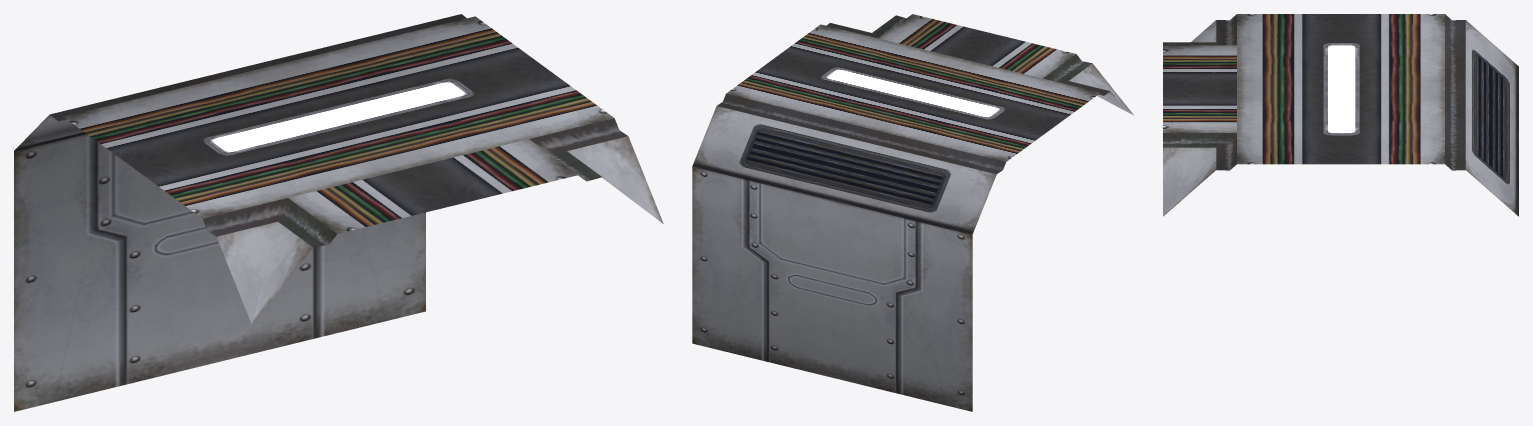
The model's file is MESH_CORREDOR_03_WAY.fbx.
The picture shows the model from 3 angles, left to right: view 1: azimuth 30°, elevation 25°; view 2: azimuth 150°, elevation 25°; view 3: azimuth 270°, elevation 25°; orthographic projection. The views are drawn at different scales.
Parts seen in each view (by area): view 1: MESH_CORREDOR_03_WAY; view 2: MESH_CORREDOR_03_WAY; view 3: MESH_CORREDOR_03_WAY.
Boxes of the visible parts, box(x1,y1,x2,y2) form: MESH_CORREDOR_03_WAY: box(14, 14, 663, 411); MESH_CORREDOR_03_WAY: box(692, 14, 1133, 411); MESH_CORREDOR_03_WAY: box(1163, 14, 1518, 216).
Size of the model in its own units: 4 by 3.07 by 4.
